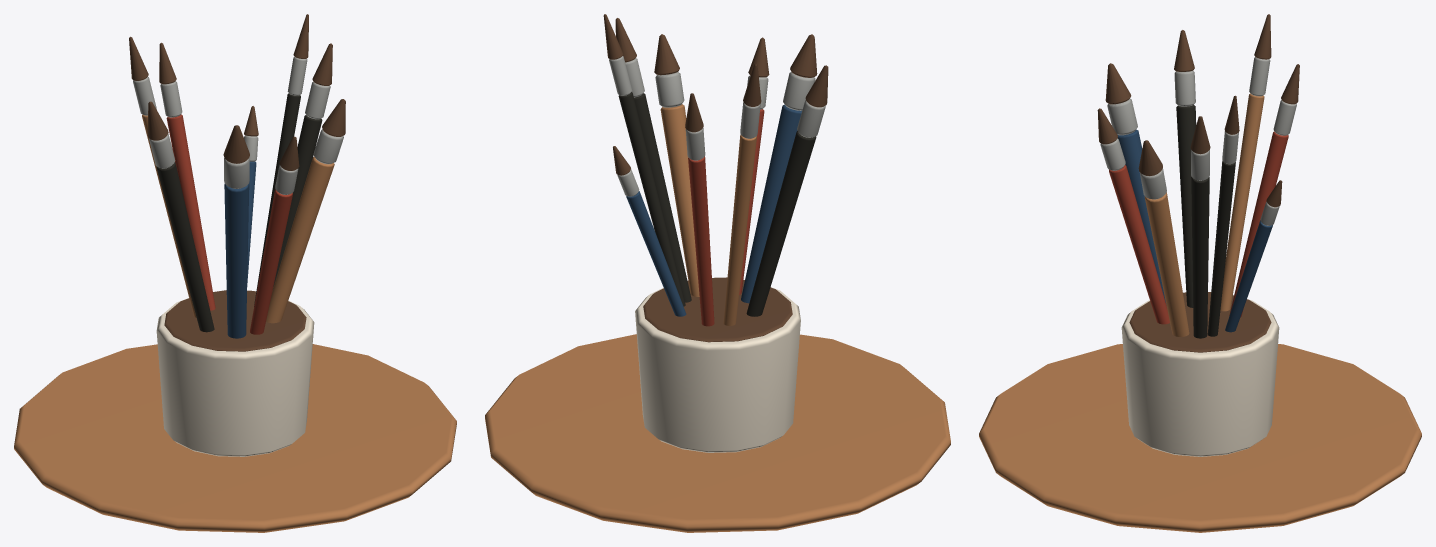
The model's file is brushes.glb.
3 renders of one model, left to right at view 1: azimuth 30°, elevation 25°; view 2: azimuth 150°, elevation 25°; view 3: azimuth 270°, elevation 25°, orthographic. The views are drawn at different scales.
Parts seen in each view (by area): view 1: Cone, Cone.001, Cone.002, Cone.018, Cone.024, Cone.015, Cone.021, Cone.009, Cone.003, Cone.027, Cone.019, Cone.004 (+10 smaller); view 2: Cone, Cone.001, Cone.002, Cone.015, Cone.018, Cone.024, Cone.006, Cone.021, Cone.027, Cone.003, Cone.012, Cone.019 (+8 smaller); view 3: Cone, Cone.001, Cone.002, Cone.006, Cone.018, Cone.009, Cone.003, Cone.015, Cone.027, Cone.021, Cone.024, Cone.012 (+10 smaller).
Part boxes in pixels (box(x1,y1,x2,y2)): Cone: box(14, 344, 456, 532); Cone.001: box(156, 298, 314, 456); Cone.002: box(164, 290, 306, 351); Cone.018: box(266, 156, 334, 323); Cone.024: box(224, 184, 249, 338); Cone.015: box(156, 162, 214, 332); Cone.021: box(166, 114, 215, 310); Cone.009: box(250, 189, 292, 334); Cone.003: box(273, 115, 322, 288); Cone.027: box(254, 93, 300, 306); Cone.019: box(313, 129, 343, 164); Cone.004: box(305, 82, 330, 119); Cone: box(485, 334, 950, 532); Cone.001: box(635, 287, 800, 452); Cone.002: box(643, 277, 792, 342); Cone.015: box(746, 131, 816, 316); Cone.018: box(660, 104, 699, 296); Cone.024: box(741, 104, 801, 303); Cone.006: box(723, 134, 756, 325); Cone.021: box(688, 156, 714, 326); Cone.027: box(618, 92, 685, 306); Cone.003: box(634, 93, 691, 302); Cone.012: box(626, 191, 686, 316); Cone.019: box(655, 72, 684, 107); Cone: box(979, 344, 1421, 532); Cone.001: box(1121, 300, 1279, 456); Cone.002: box(1129, 292, 1271, 352); Cone.006: box(1220, 93, 1264, 311); Cone.018: box(1144, 192, 1189, 336); Cone.009: box(1109, 165, 1169, 324); Cone.003: box(1191, 177, 1209, 338); Cone.015: box(1176, 105, 1196, 307); Cone.027: box(1207, 161, 1235, 336); Cone.021: box(1229, 131, 1288, 317); Cone.024: box(1117, 129, 1166, 303); Cone.012: box(1225, 220, 1272, 332).
Size of the model in its own units: 2.18 by 2.14 by 2.18.
